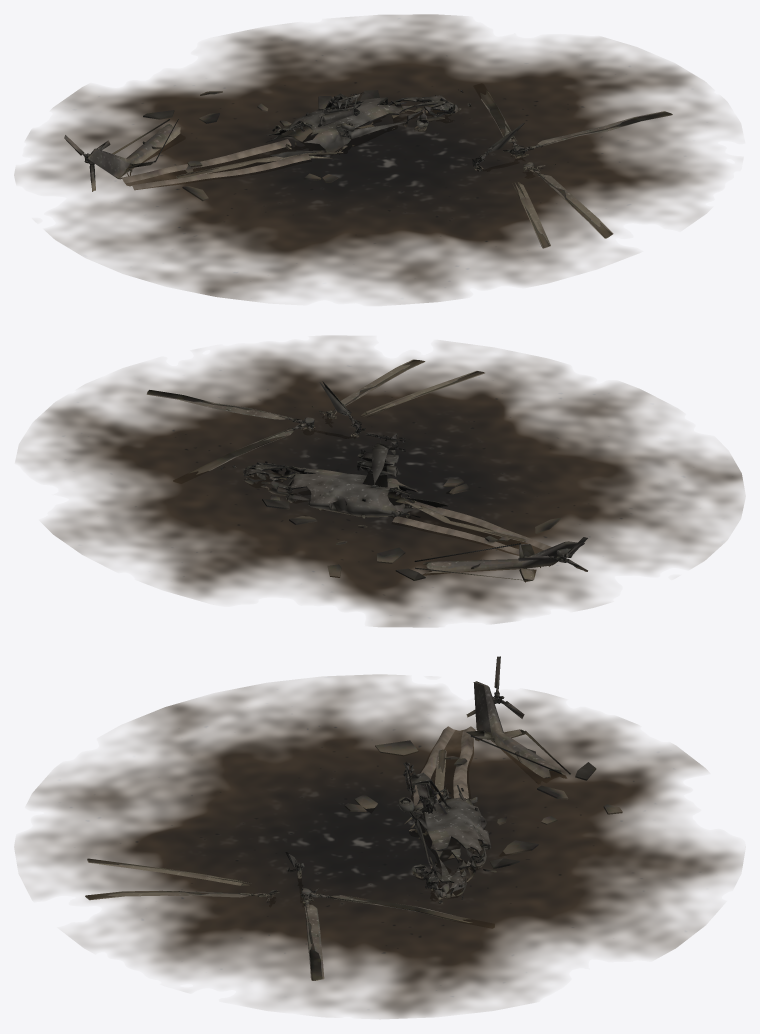
The model's file is b11_wreck_heli.glb.
The picture shows the model from 3 angles, top to bottom: view 1: azimuth 30°, elevation 25°; view 2: azimuth 150°, elevation 25°; view 3: azimuth 270°, elevation 25°; orthographic projection. The views are drawn at different scales.
Parts seen in each view (by area): view 1: scorch, wreck; view 2: scorch, wreck; view 3: scorch, wreck.
Boxes of the visible parts, box(x1,y1,x2,y2) form: scorch: box(14, 14, 736, 304); wreck: box(64, 89, 672, 248); scorch: box(17, 336, 743, 627); wreck: box(146, 359, 587, 582); scorch: box(15, 674, 743, 1018); wreck: box(85, 656, 622, 980).
Bounding box in the file's own units: 1.24 × 0.1263 × 1.11.
Materials: 2 (2 with a texture image).
